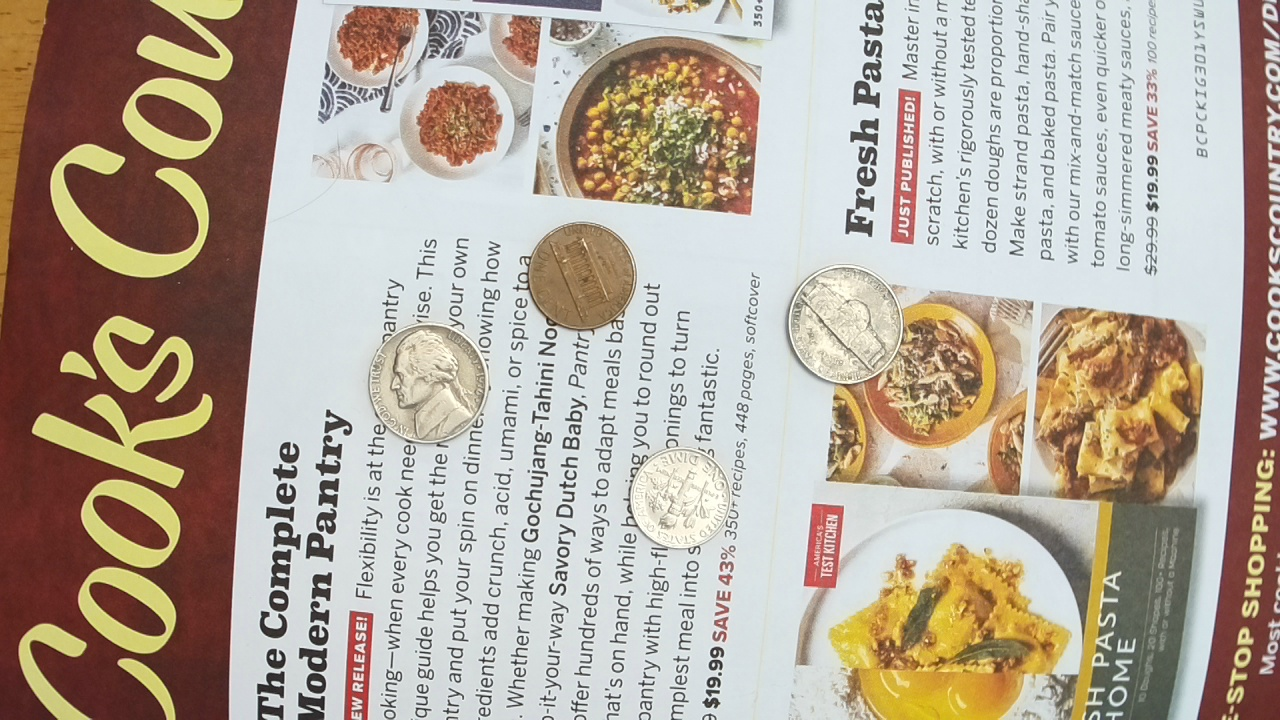dime: (626, 443, 738, 551)
nickel: (368, 318, 488, 444), (783, 262, 903, 386)
penny: (526, 218, 638, 330)
